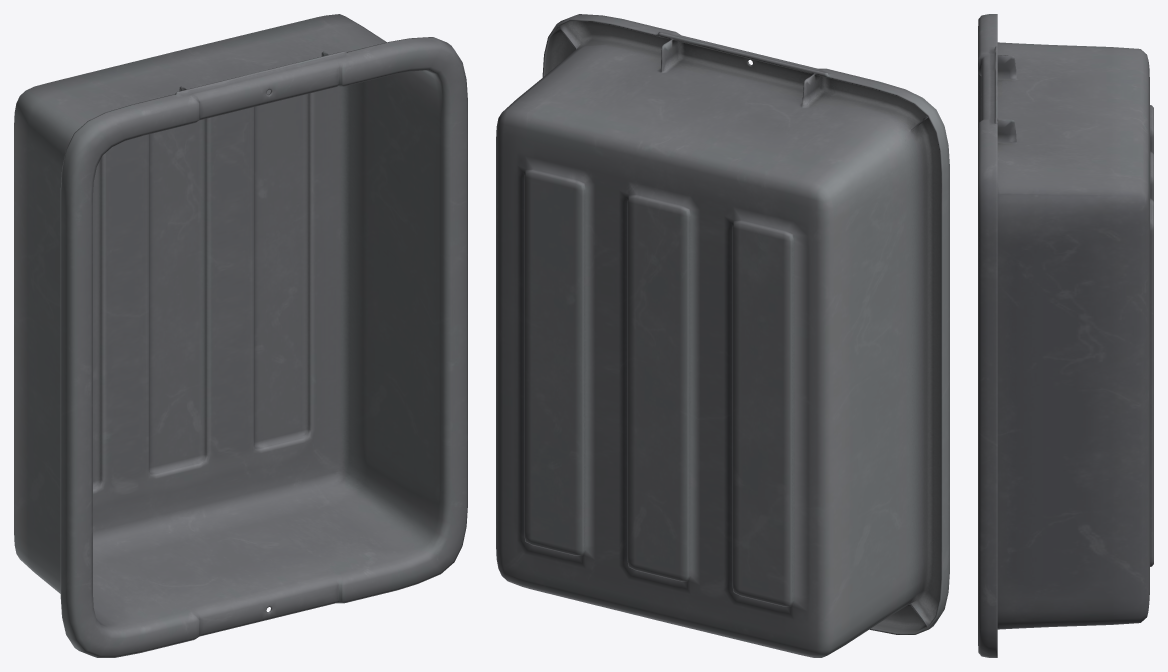
The model's file is ToteA.L.obj.
3 views of the same model, side by side, from view 1: azimuth 30°, elevation 25°; view 2: azimuth 150°, elevation 25°; view 3: azimuth 270°, elevation 25° (orthographic). The views are drawn at different scales.
Visible parts, largest first — view 1: ToteA.L_mesh_id5; view 2: ToteA.L_mesh_id5; view 3: ToteA.L_mesh_id5.
Part boxes in pixels (box(x1,y1,x2,y2)): ToteA.L_mesh_id5: box(14, 14, 467, 657); ToteA.L_mesh_id5: box(496, 14, 949, 657); ToteA.L_mesh_id5: box(978, 14, 1153, 657).
Size of the model in its own units: 0.4282 by 0.5601 by 0.1775.
1 material, 1 textured.
